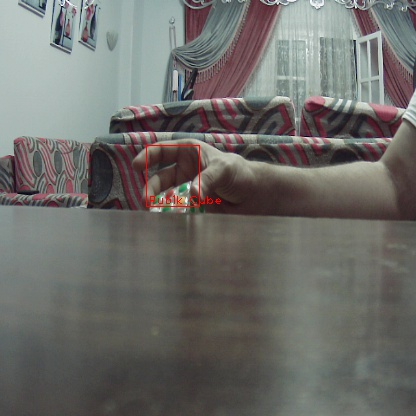Rubix Cube: (153, 187, 192, 215)
